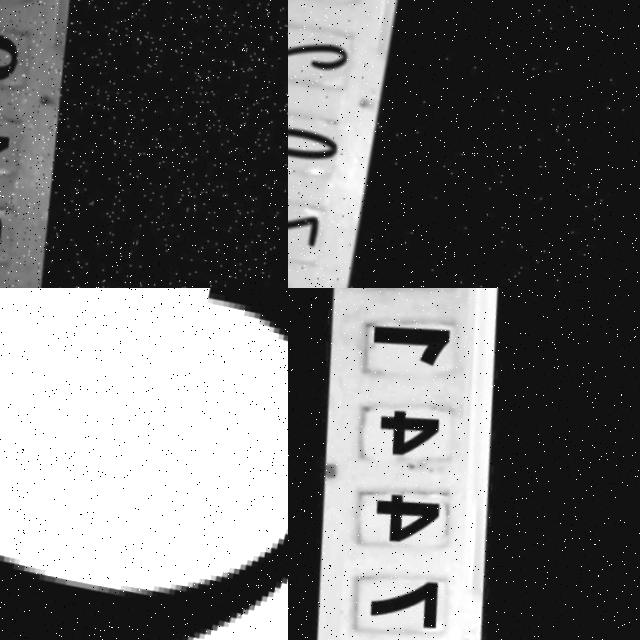0: (288, 86, 367, 203), (288, 0, 391, 30)
1: (363, 310, 464, 388)
2: (288, 0, 374, 112), (0, 181, 31, 279)
4: (357, 477, 466, 561), (359, 392, 466, 472), (0, 98, 44, 196)
7: (355, 560, 460, 640), (288, 169, 347, 286)
9: (0, 9, 46, 104)
C: (0, 524, 288, 640)
